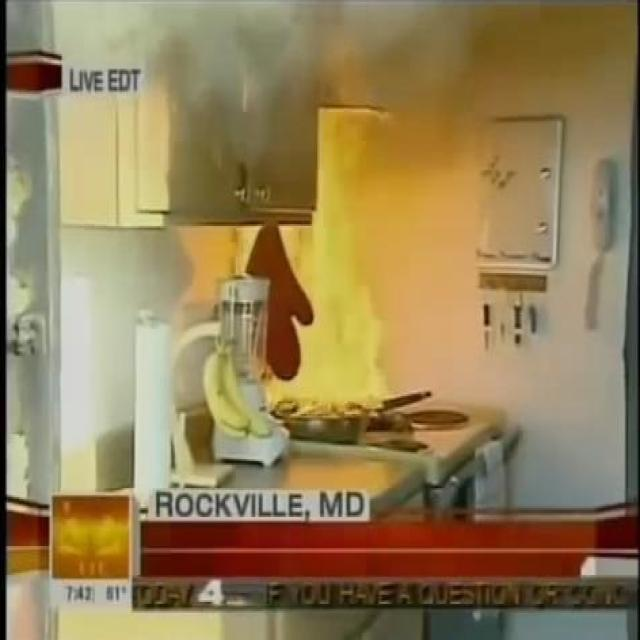fire: (8, 3, 327, 108), (342, 2, 485, 106)
smoke: (227, 106, 410, 417)
